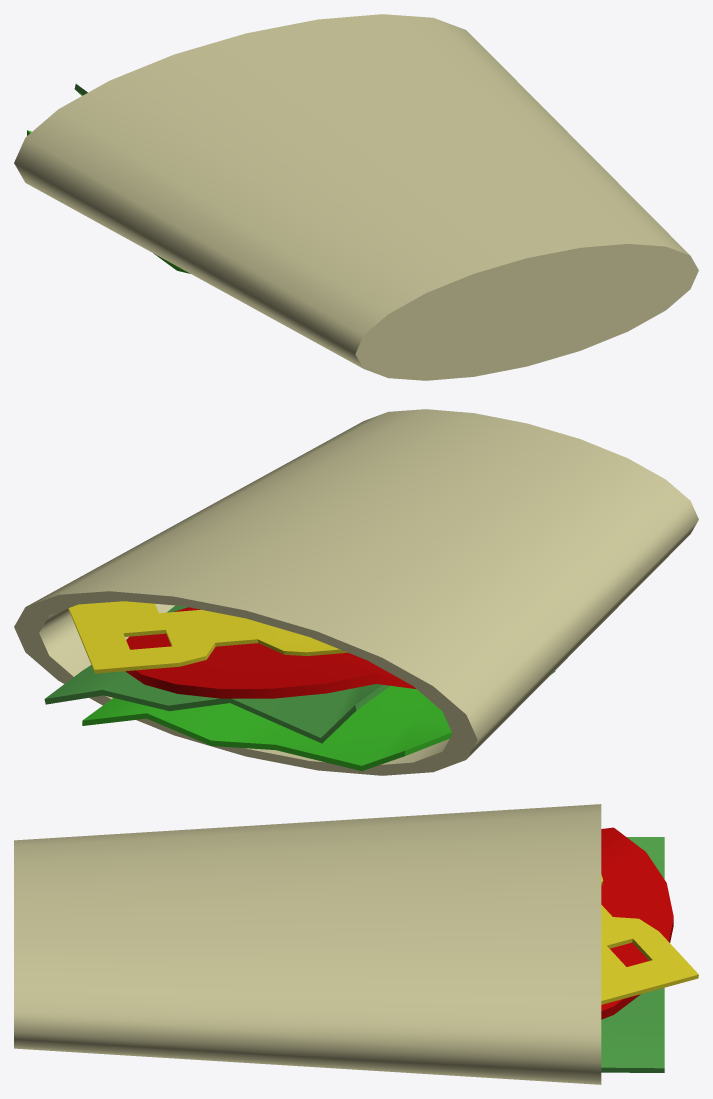
The model's file is Burrito Mix.fbx.
3 views of the same model, one above another, from view 1: azimuth 30°, elevation 25°; view 2: azimuth 150°, elevation 25°; view 3: azimuth 270°, elevation 25° (orthographic). The views are drawn at different scales.
Parts seen in each view (by area): view 1: pPipe2; view 2: pPipe2; view 3: pPipe2.
Part boxes in pixels (x1,y1,x2,y2): pPipe2: (14, 14, 698, 380); pPipe2: (14, 409, 698, 775); pPipe2: (14, 804, 698, 1084).
Bounding box in the file's own units: 3.79 × 1.14 × 4.64.
